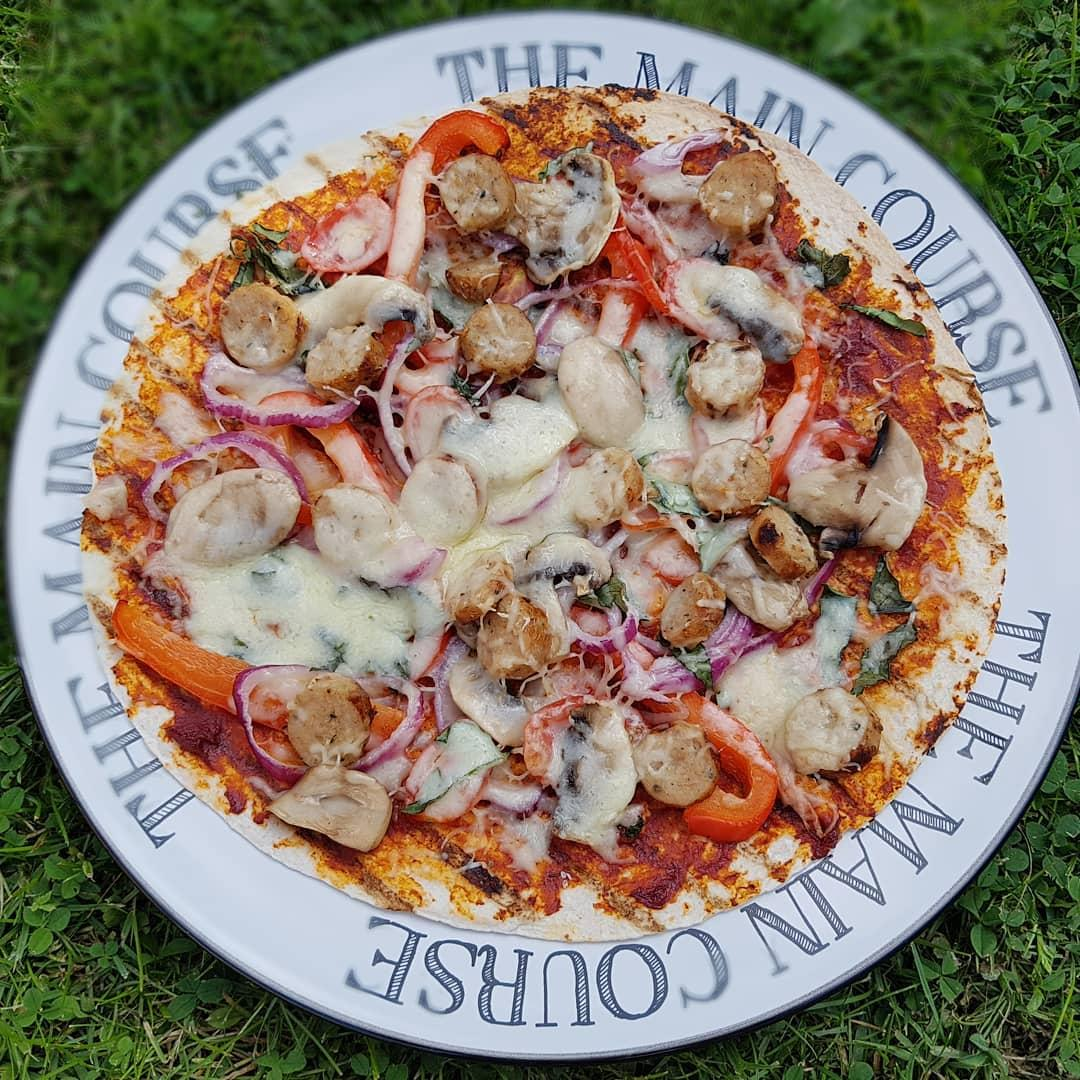Arugula: (829, 575, 918, 681), (645, 475, 744, 558), (409, 717, 505, 798), (225, 229, 322, 289), (785, 233, 861, 286), (861, 293, 930, 341), (669, 635, 725, 678), (561, 713, 585, 780)
Chicken: (265, 761, 385, 850), (775, 685, 873, 772), (637, 715, 718, 818), (297, 669, 376, 760), (695, 153, 781, 233), (687, 341, 772, 416), (459, 303, 541, 366), (221, 285, 289, 360), (487, 597, 548, 677), (305, 323, 373, 394), (689, 449, 770, 508), (441, 153, 506, 225), (443, 549, 514, 614), (749, 513, 822, 573), (661, 569, 718, 644)
Mushroom: (561, 707, 645, 856), (277, 275, 434, 342), (697, 273, 809, 362), (865, 421, 925, 564), (527, 533, 610, 589)
Onion: (233, 657, 438, 773), (137, 425, 300, 521), (197, 371, 373, 437), (625, 609, 769, 686), (365, 337, 429, 472), (625, 129, 745, 181), (763, 547, 852, 614), (521, 267, 637, 308), (543, 613, 648, 652)
Peppers: (250, 387, 433, 575), (113, 595, 284, 726), (396, 108, 512, 285), (680, 686, 782, 842), (761, 334, 823, 490), (601, 229, 654, 351), (525, 693, 584, 783)
Pizza: (79, 85, 1007, 946)
Tomatoes: (301, 195, 396, 271)
